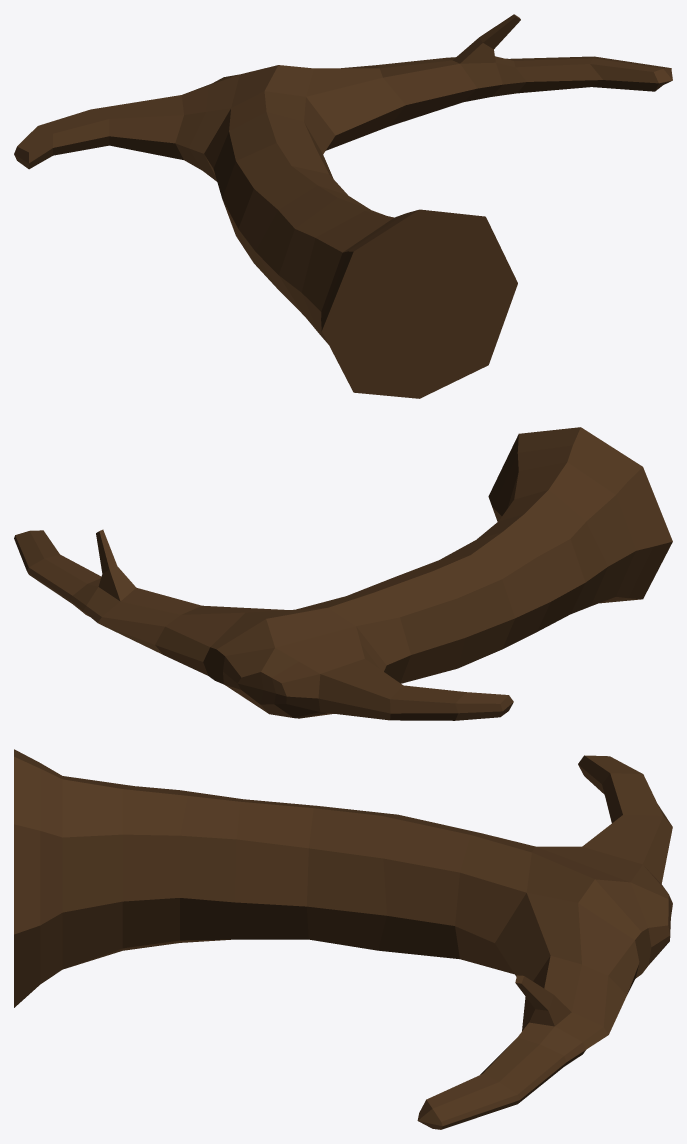
The model's file is WillowTree_1_X.fbx.
3 views of the same model, one above another, from view 1: azimuth 30°, elevation 25°; view 2: azimuth 150°, elevation 25°; view 3: azimuth 270°, elevation 25° (orthographic). The views are drawn at different scales.
Parts seen in each view (by area): view 1: WillowTree_1_X; view 2: WillowTree_1_X; view 3: WillowTree_1_X.
Part boxes in pixels (x1=…): WillowTree_1_X: x1=14, y1=14, x2=672, y2=398; WillowTree_1_X: x1=14, y1=427, x2=672, y2=720; WillowTree_1_X: x1=14, y1=749, x2=672, y2=1129.
Bounding box in the file's own units: 476 × 146 × 378.
